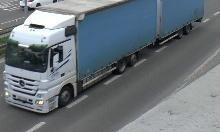truck: (4, 0, 205, 113)
